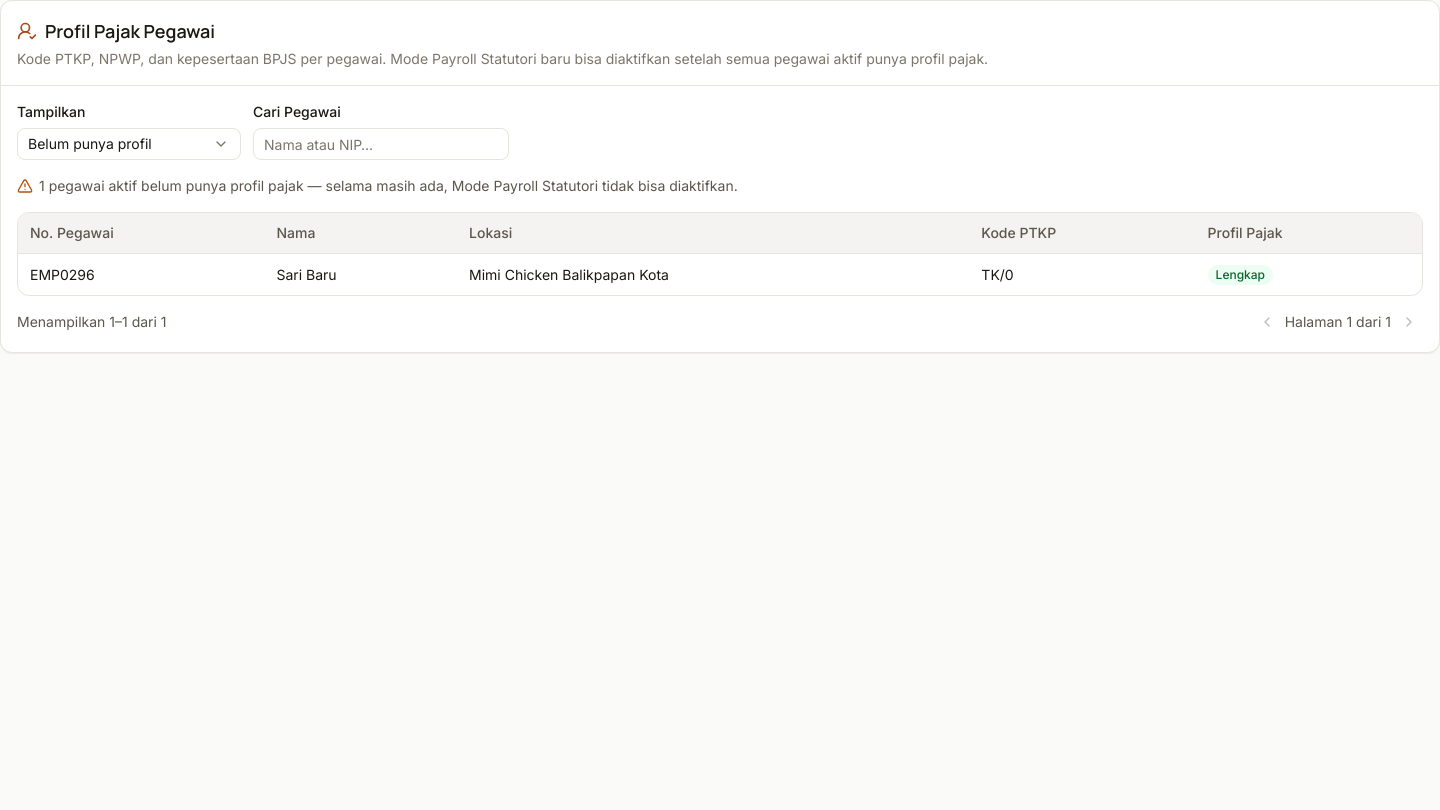
EmployeeTaxProfilesEditor › loads an existing profile for editing instead of starting blank
What coordinates should you click on to do the following:
click the text "Sari Baru"
I would click on:
 (307, 274)
Its box is [264,254,457,295].
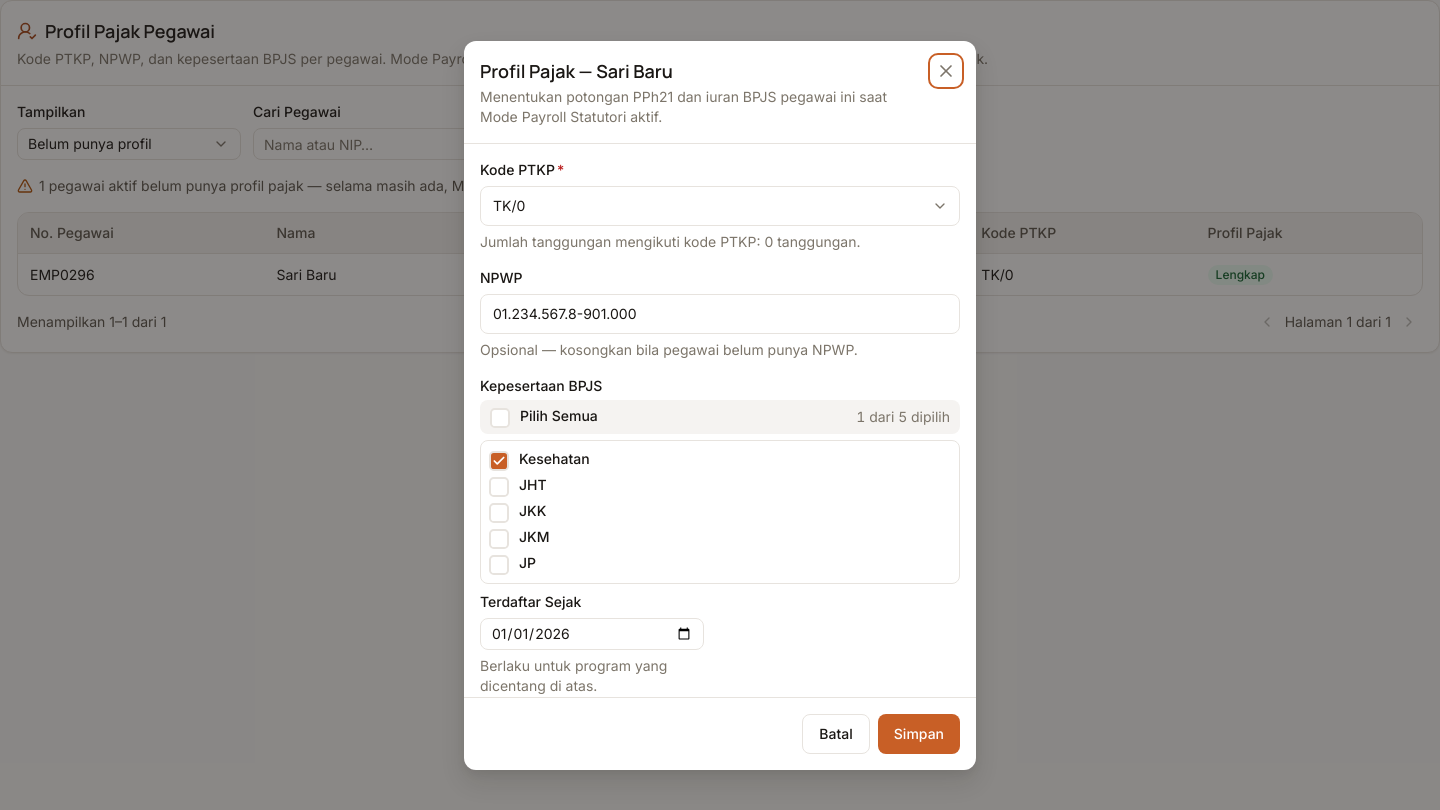
Check: the dropdown labelled "Kode PTKP*" shows "TK/0", box [480,186,960,226]
Check: the checkbox labelled "Kesehatan" is checked, box [489,450,590,470]
Check: the checkbox labelled "JP" is not checked, box [489,554,536,574]
